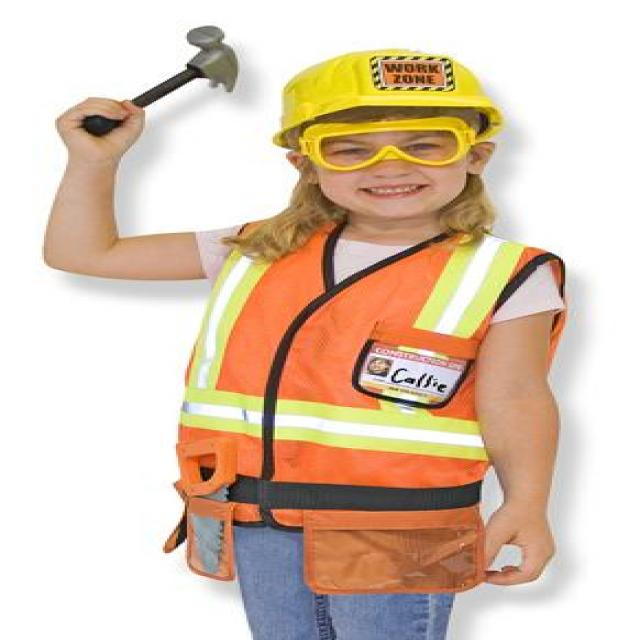Reflective-Jacket: (171, 222, 539, 528)
Safety-Helmet: (264, 41, 508, 143)
